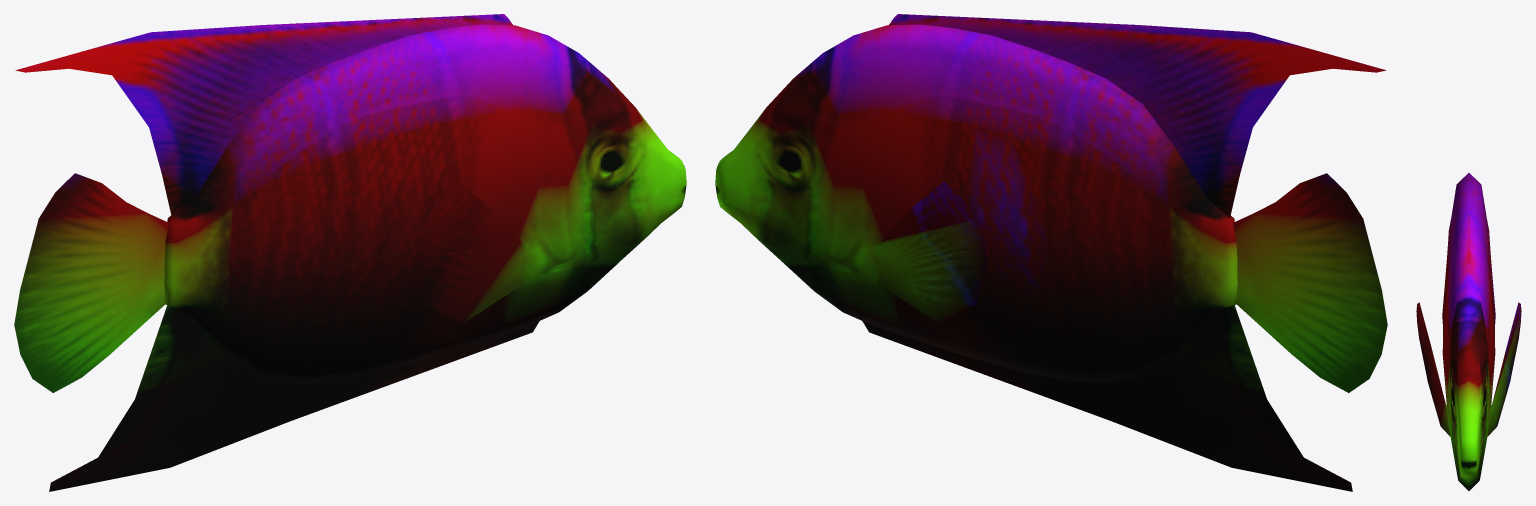
The model's file is queen_angelfish.glb.
3 renders of one model, left to right at view 1: azimuth 30°, elevation 25°; view 2: azimuth 150°, elevation 25°; view 3: azimuth 270°, elevation 25°, orthographic. The views are drawn at different scales.
Visible parts, largest first — view 1: QueenAngelfish; view 2: QueenAngelfish; view 3: QueenAngelfish.
Part boxes in pixels (<box>): QueenAngelfish: <box>14,14,686,491</box>; QueenAngelfish: <box>715,14,1387,491</box>; QueenAngelfish: <box>1416,173,1521,490</box>.
Bounding box in the file's own units: 1 × 0.6268 × 0.1818.
Materials: 1 (1 with a texture image).
